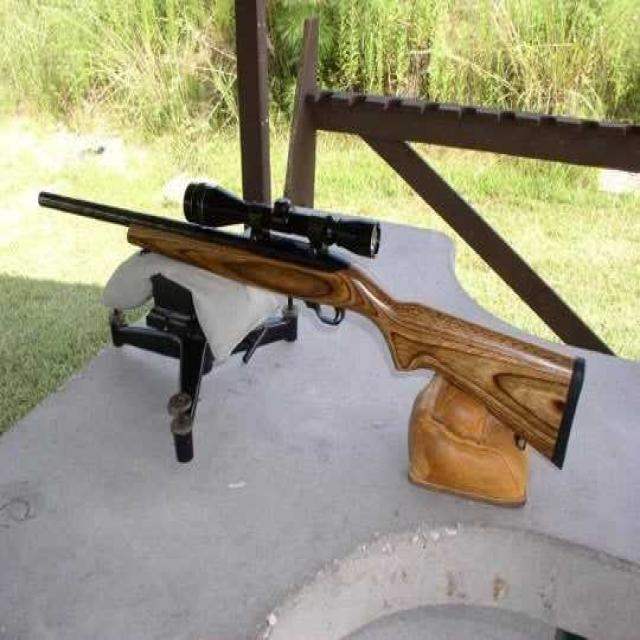heavyweapon: (33, 173, 609, 517)
